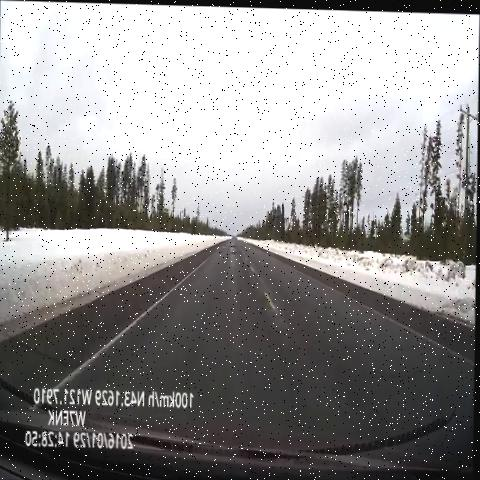pothole: (217, 238, 228, 255), (228, 240, 239, 256)
